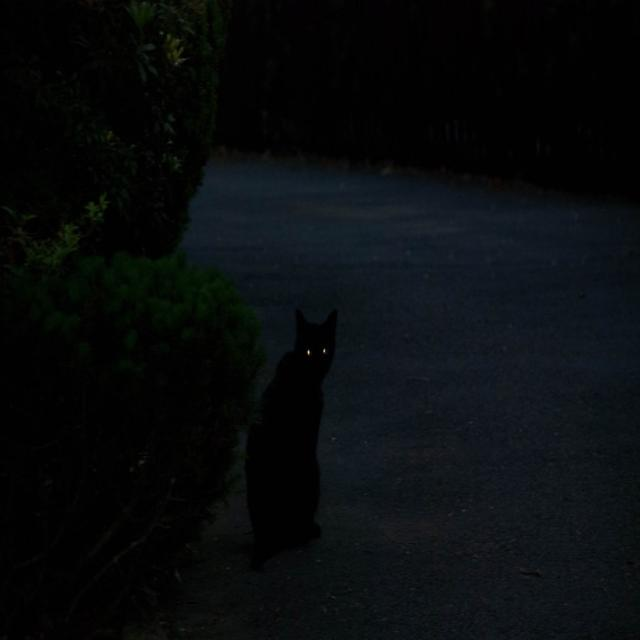Cat: (243, 299, 361, 588)
